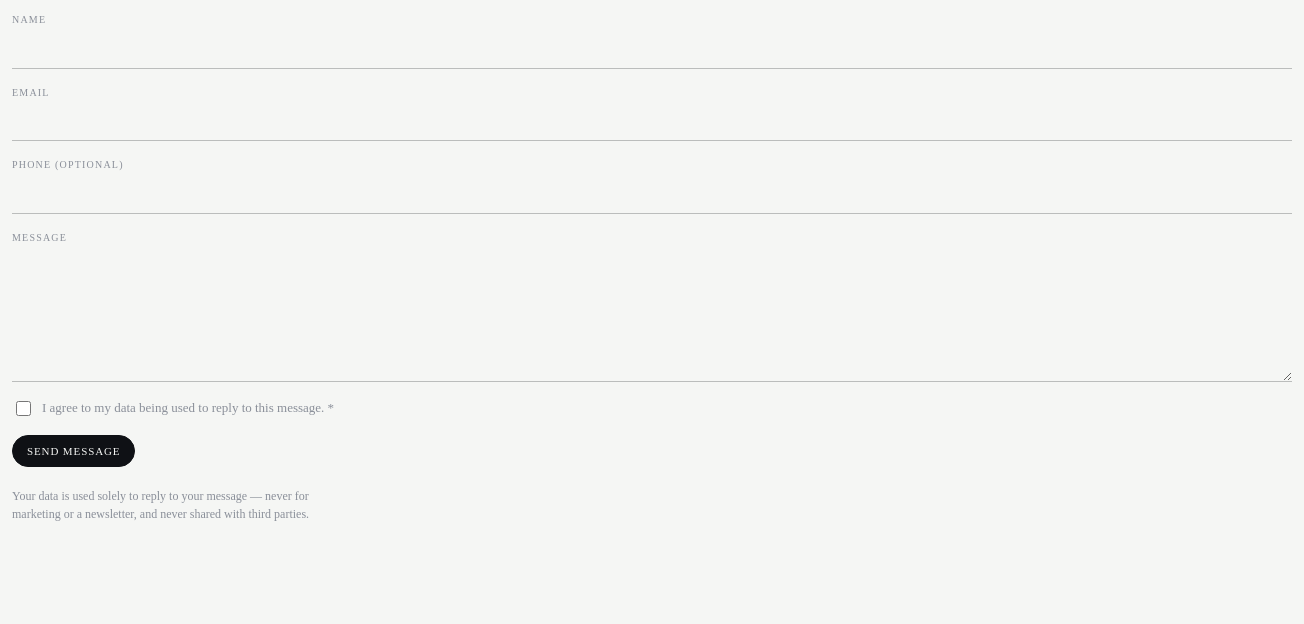
Test: ContactForm › shows validation errors and does not submit when required fields are empty
Click the checkbox labelled "I agree to my data being used to reply to this message. *" at (24, 409), box [16,401,31,416]
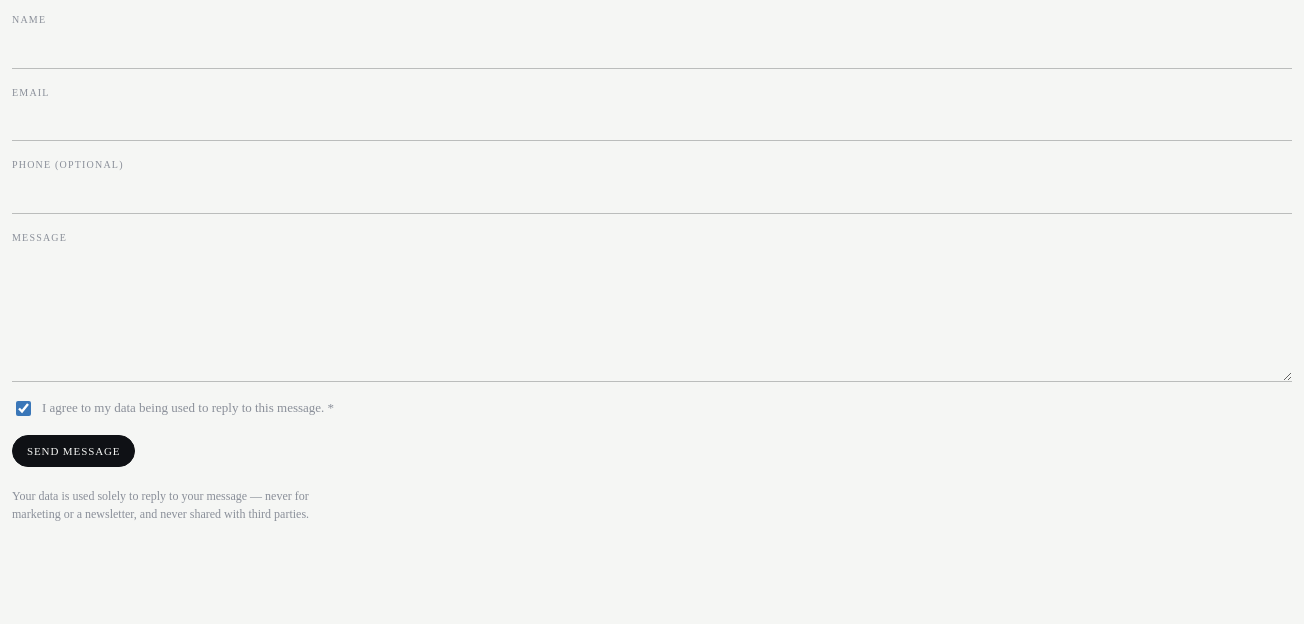
Click the button "Send message" at (74, 451), box [12,435,135,467]
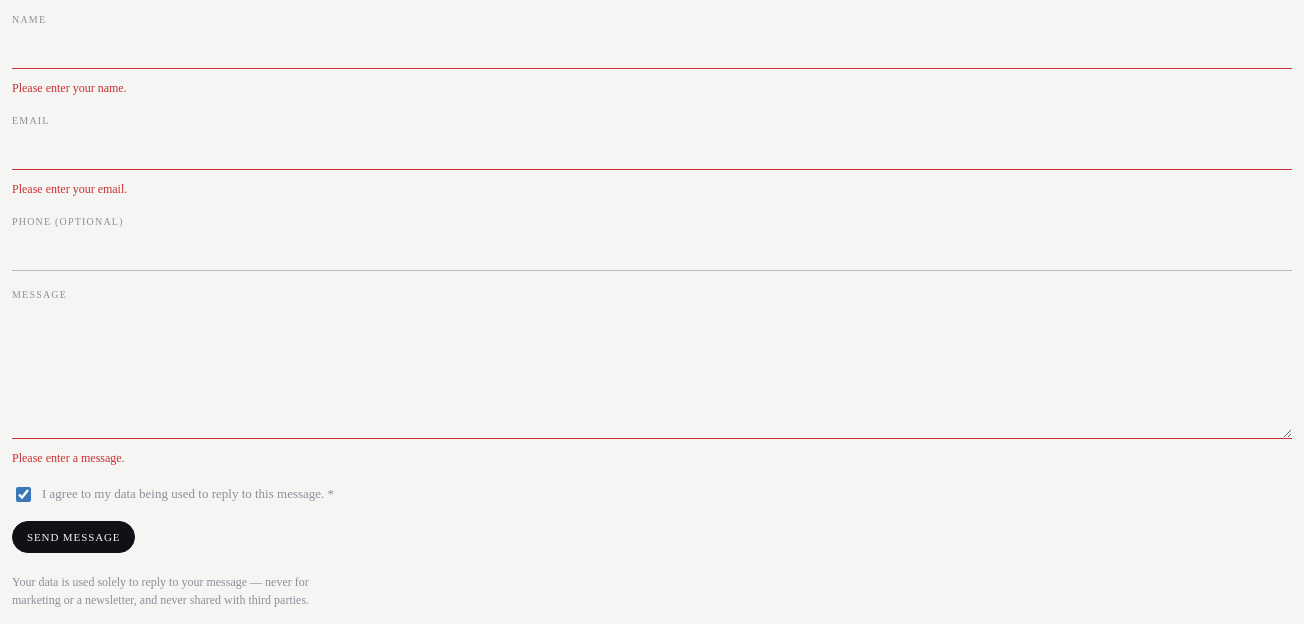
Result: the text "Please enter your name." is shown at [12,80,127,94]
Result: the text "Please enter your email." is shown at [12,182,127,196]
Result: the text "Please enter a message." is shown at [12,451,125,465]
